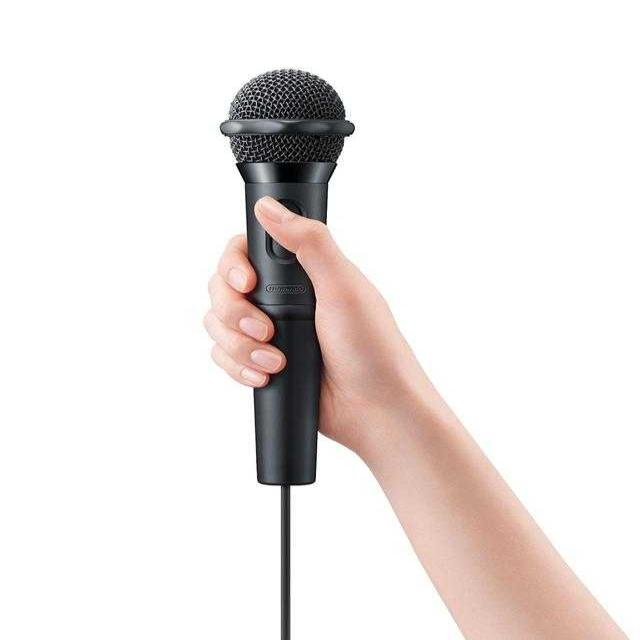microphone: (220, 69, 359, 478)
